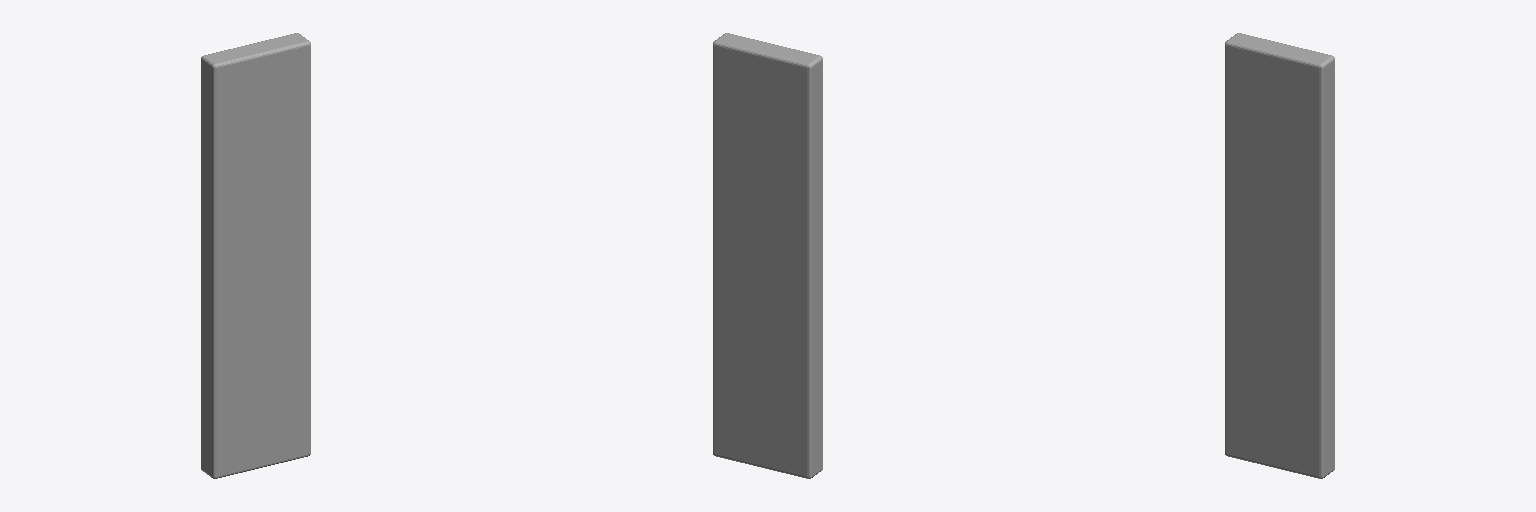
The model's file is wall4x16.obj.
The picture shows the model from 3 angles: view 1: azimuth 30°, elevation 25°; view 2: azimuth 150°, elevation 25°; view 3: azimuth 330°, elevation 25°; orthographic projection.
Parts seen in each view (by area): view 1: pCube2; view 2: pCube2; view 3: pCube2.
Part boxes in pixels (bbox=[...]): pCube2: bbox=[201, 33, 310, 478]; pCube2: bbox=[713, 33, 822, 478]; pCube2: bbox=[1225, 33, 1334, 478].
Size of the model in its own units: 4 by 16 by 1.